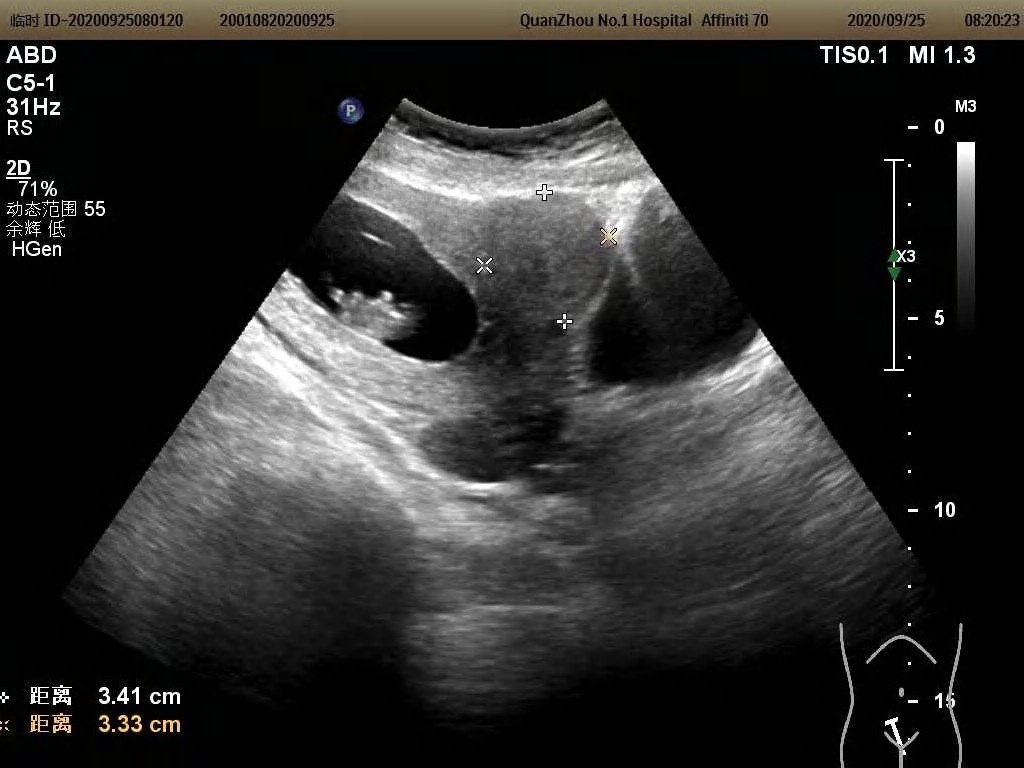肌瘤: (486, 195, 604, 313)
